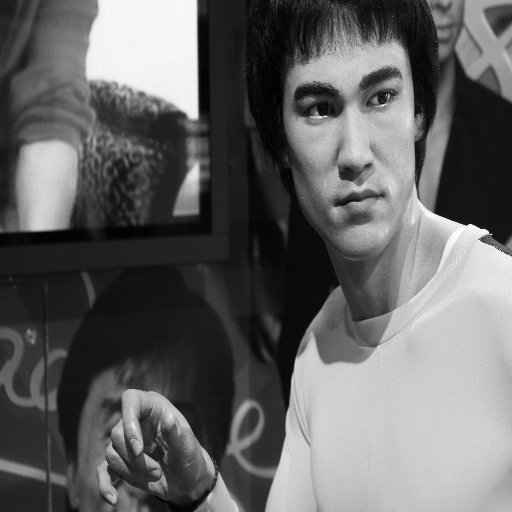hand: (86, 377, 218, 512)
